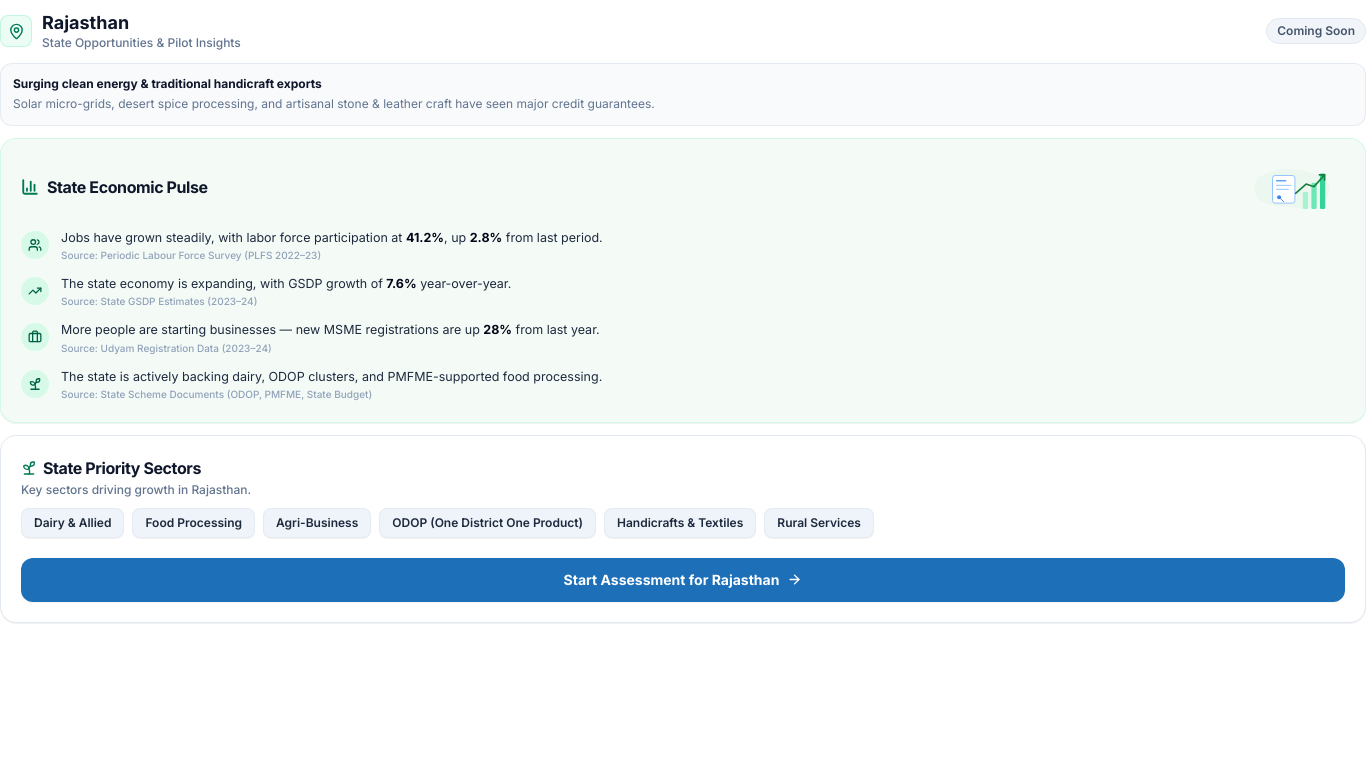
Test: Discover Live Backend Integration (Task 7) › StateInsightsBar Live Backend Integration › renders static reference profile with Coming Soon badge for non-pilot states and shows pilot boundary alert on click
expect the text "Coming Soon" is shown: met, box [1266,18,1365,44]
expect the heading "Surging clean energy & traditional handicraft exports" is shown: met, box [13,76,322,90]
// Click assessment button for non-UP state
Click the button "Start Assessment for Rajasthan". click: click(683, 580)
box: [21,558,1345,602]
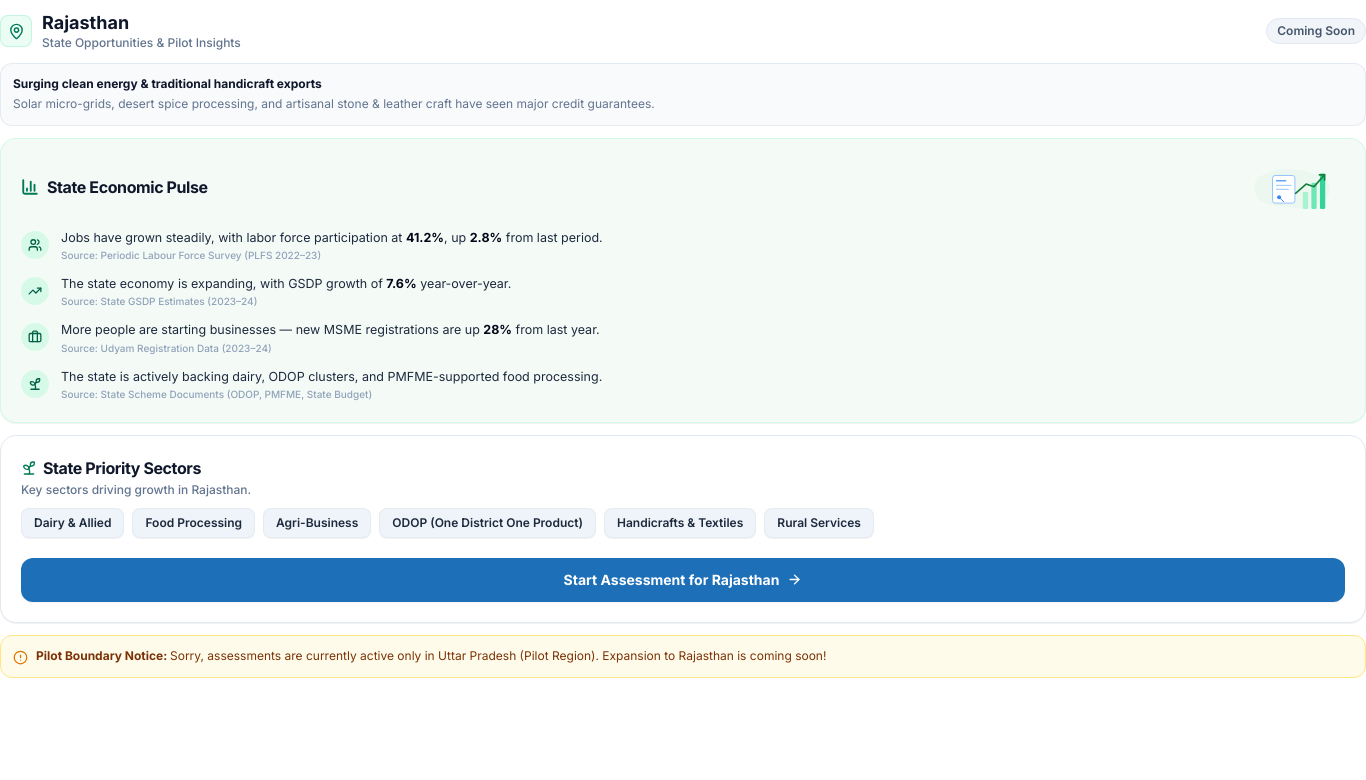
expect the message is shown: met, box [0,635,1365,678]
expect the text "Expansion to Rajasthan is coming soon!" is shown: met, box [170,648,826,663]
